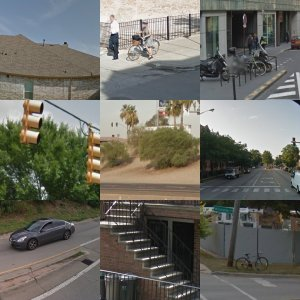公車: (1, 95, 60, 192), (107, 150, 166, 191), (43, 248, 75, 282)
棕梠樹: (216, 143, 280, 193), (25, 11, 53, 75)
汽車: (128, 16, 180, 46), (165, 265, 197, 288), (254, 11, 283, 35), (9, 264, 37, 283), (101, 11, 125, 32), (128, 259, 150, 274)
高山或山丘: (1, 17, 100, 51)
